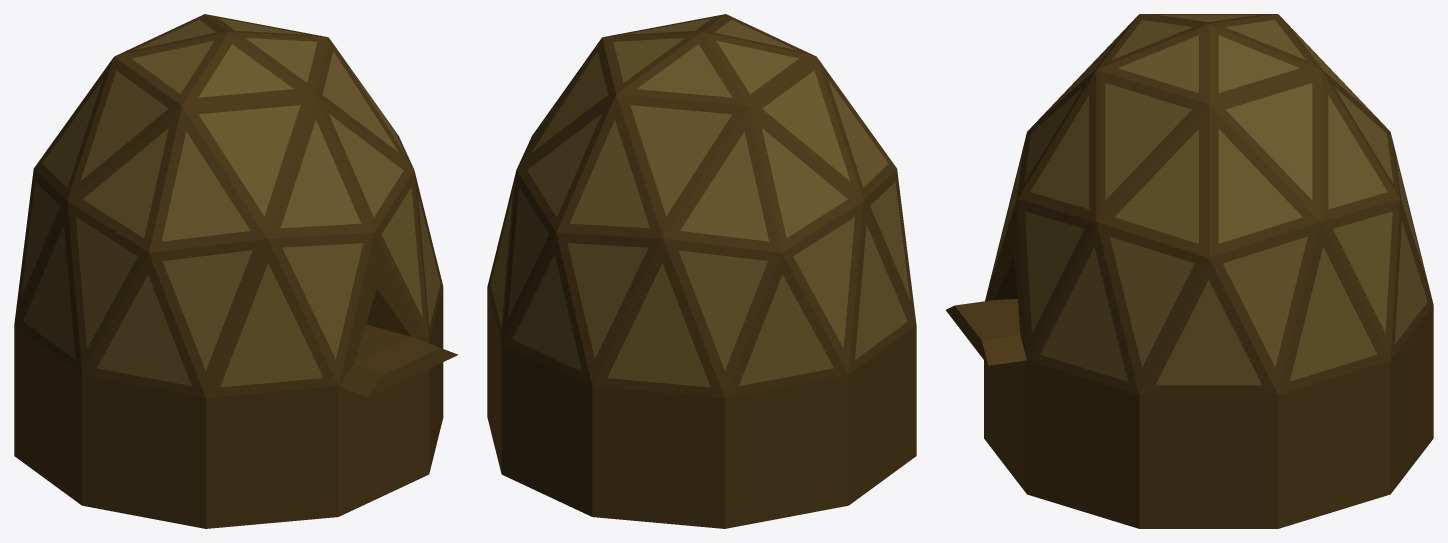
The model's file is CreativeCoding_Beehive.fbx.
3 views of the same model, side by side, from view 1: azimuth 30°, elevation 25°; view 2: azimuth 150°, elevation 25°; view 3: azimuth 270°, elevation 25° (orthographic). The views are drawn at different scales.
Parts seen in each view (by area): view 1: Beehive; view 2: Beehive; view 3: Beehive.
Boxes of the visible parts, x1,y1,x2,y2 form: Beehive: (14, 14, 458, 528); Beehive: (487, 14, 916, 528); Beehive: (946, 14, 1433, 528).
Bounding box in the file's own units: 4514 × 4832 × 5154.
